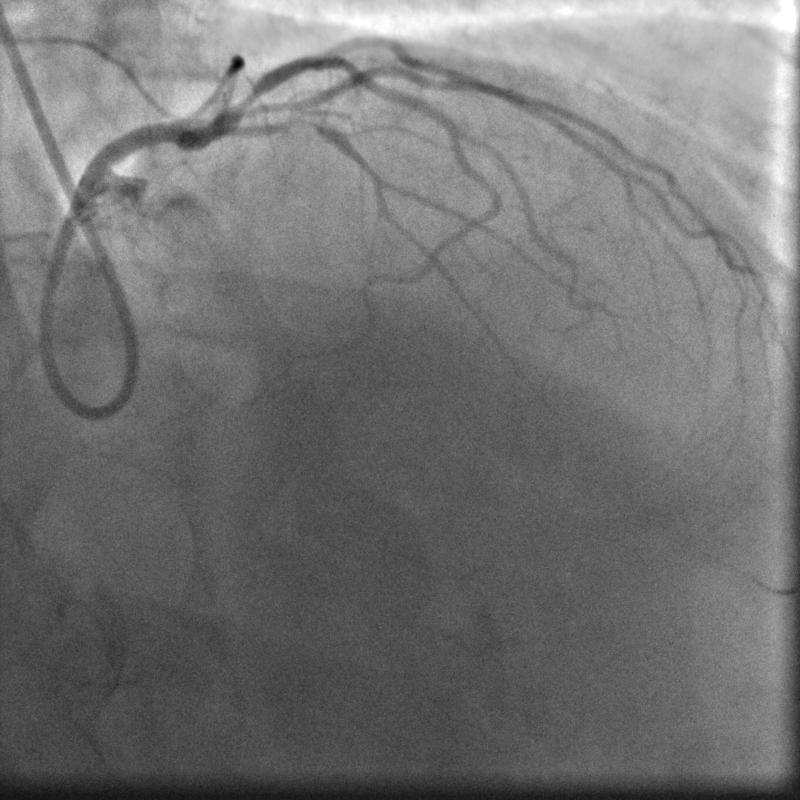Stenosis: (228, 86, 263, 115)
